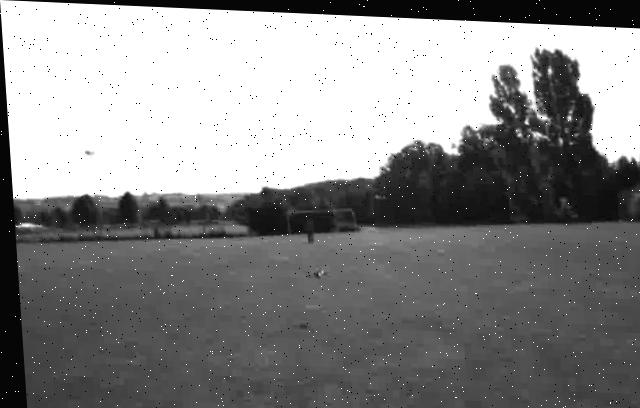drone: (304, 261, 326, 278)
